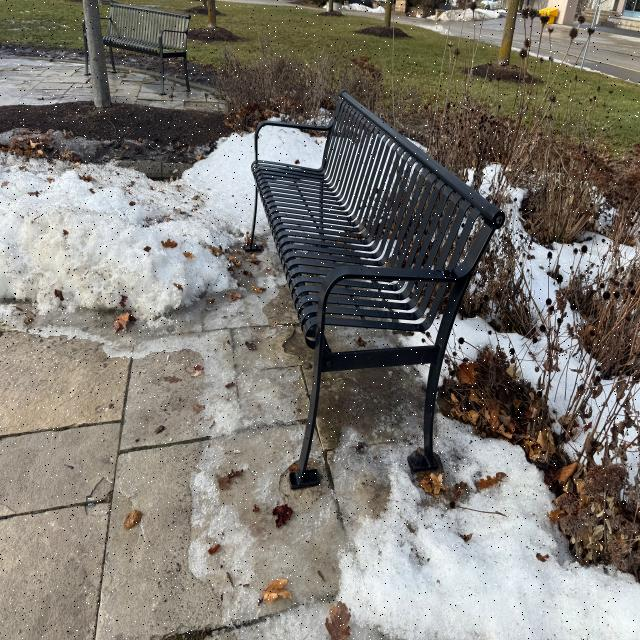Bench: (248, 102, 482, 476), (87, 7, 196, 85)
